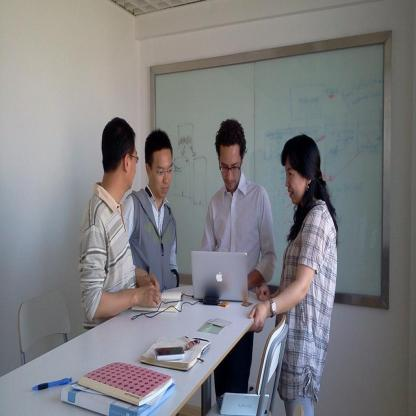board: (194, 260, 246, 307)
